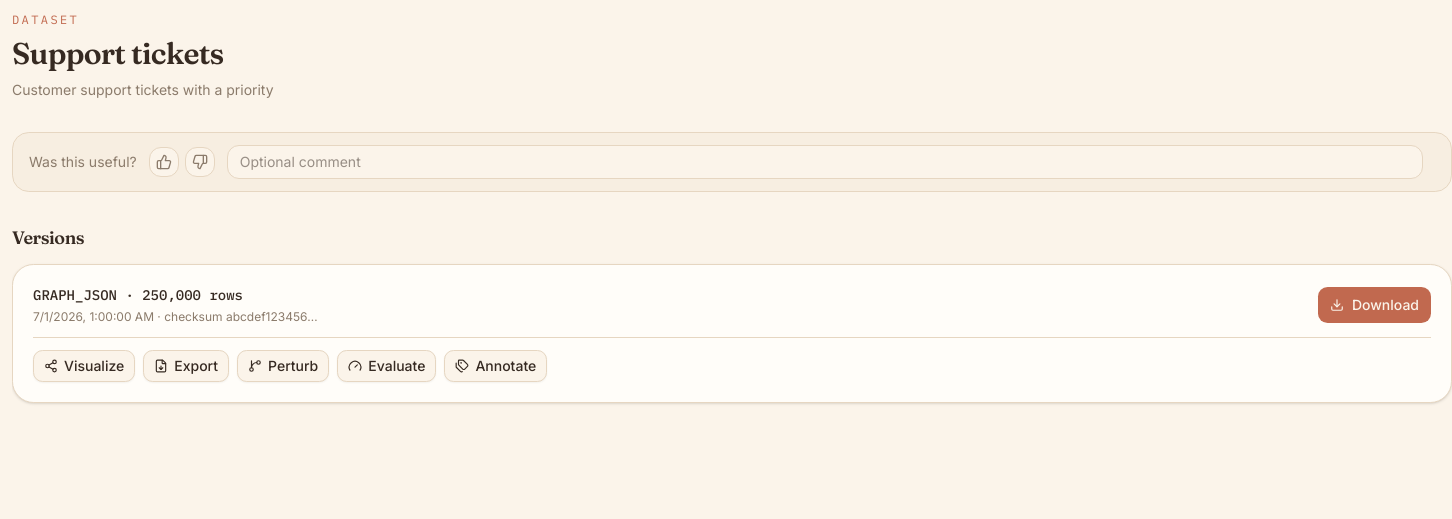
dataset versions + download › refuses to fetch a huge graph version and points at the download instead
Step 1. Click the button "Visualize" → [84, 366], box [33, 350, 135, 382]
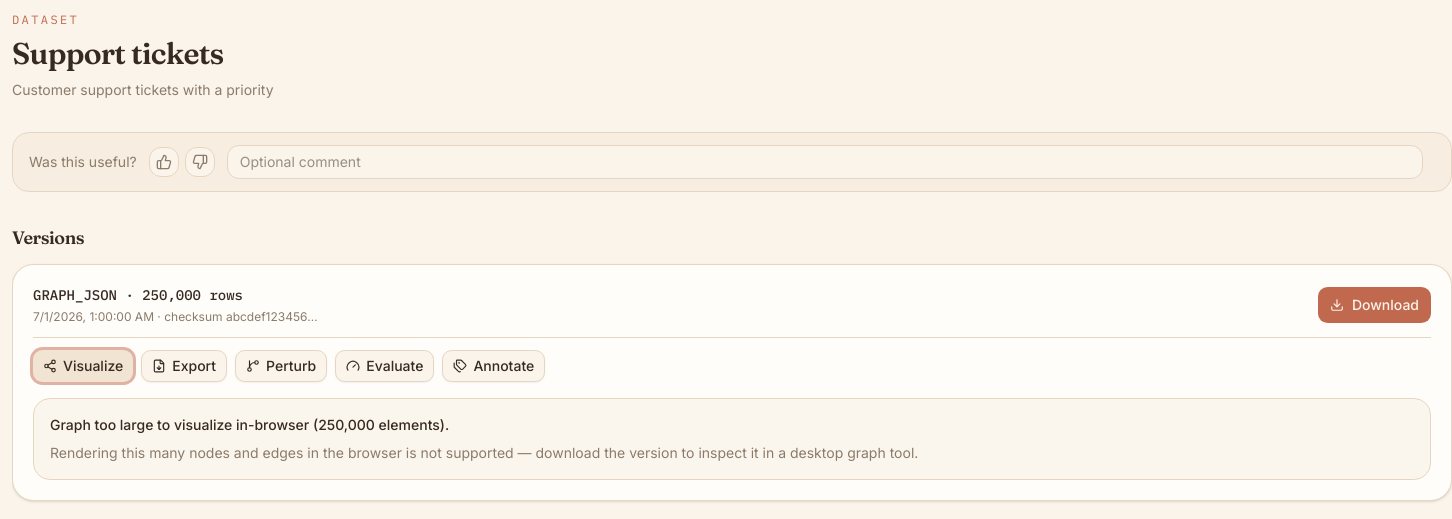
Now the text "Graph too large to visualize in-browser (250,000 elements)." is shown, box [50, 416, 449, 433]
